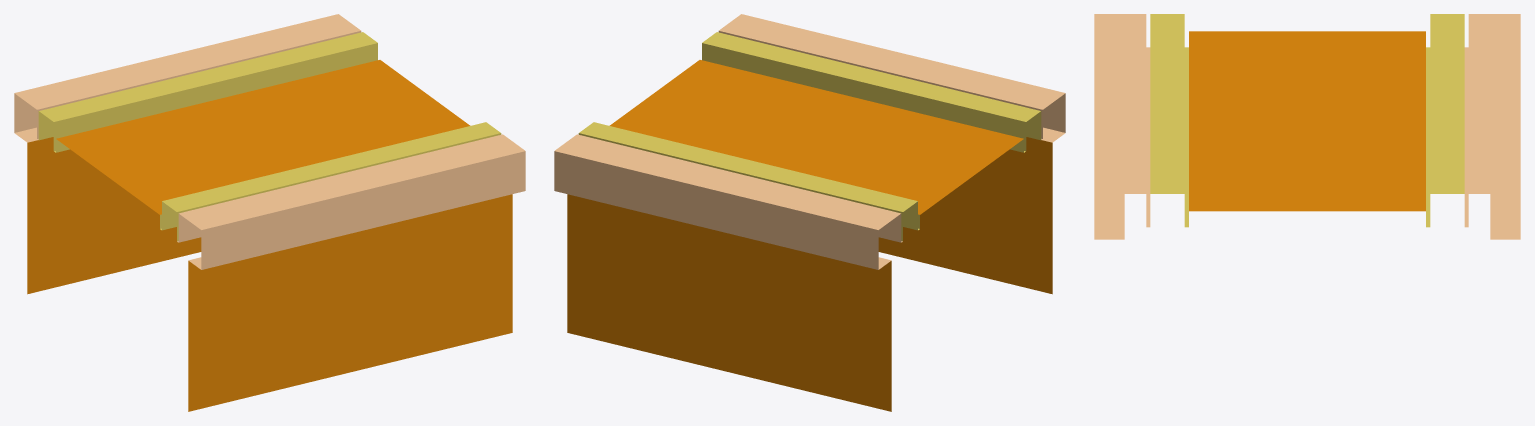
File: duz_pivot.fbx
The picture shows the model from 3 angles, left to right: view 1: azimuth 30°, elevation 25°; view 2: azimuth 150°, elevation 25°; view 3: azimuth 270°, elevation 25°; orthographic projection. The views are drawn at different scales.
Visible parts, largest first — view 1: Cube.001; view 2: Cube.001; view 3: Cube.001.
Part boxes in pixels (left/top/right/bottom): Cube.001: left=14, top=14, right=525, bottom=411; Cube.001: left=554, top=14, right=1065, bottom=411; Cube.001: left=1094, top=14, right=1520, bottom=239.
Size of the model in its own units: 100 by 56.43 by 100.
